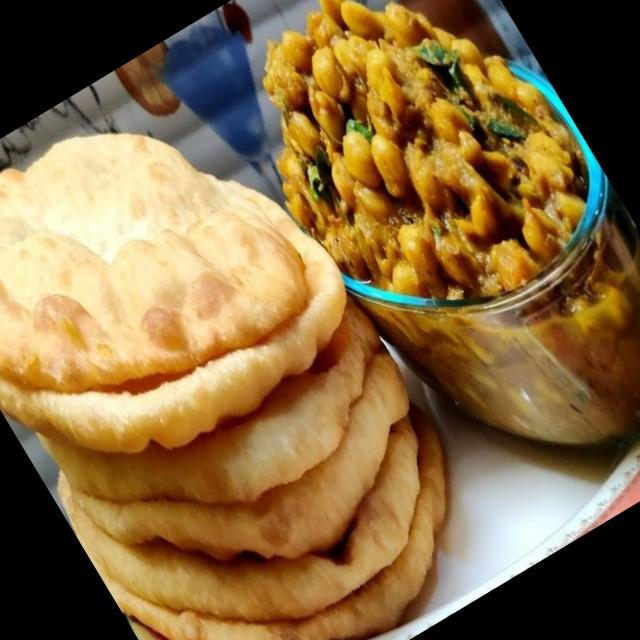Bhatura: (0, 22, 514, 640)
Chole: (195, 0, 622, 359)
